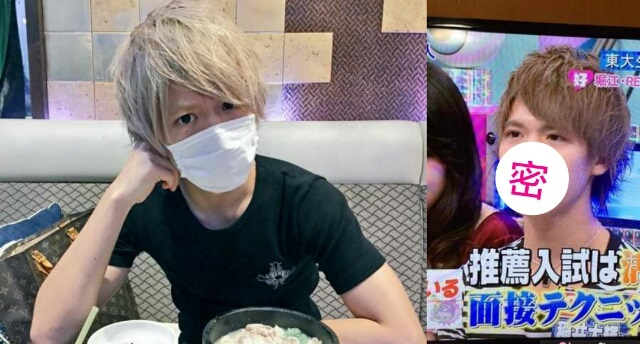face: (493, 96, 591, 216)
face_mask: (162, 72, 260, 191)
